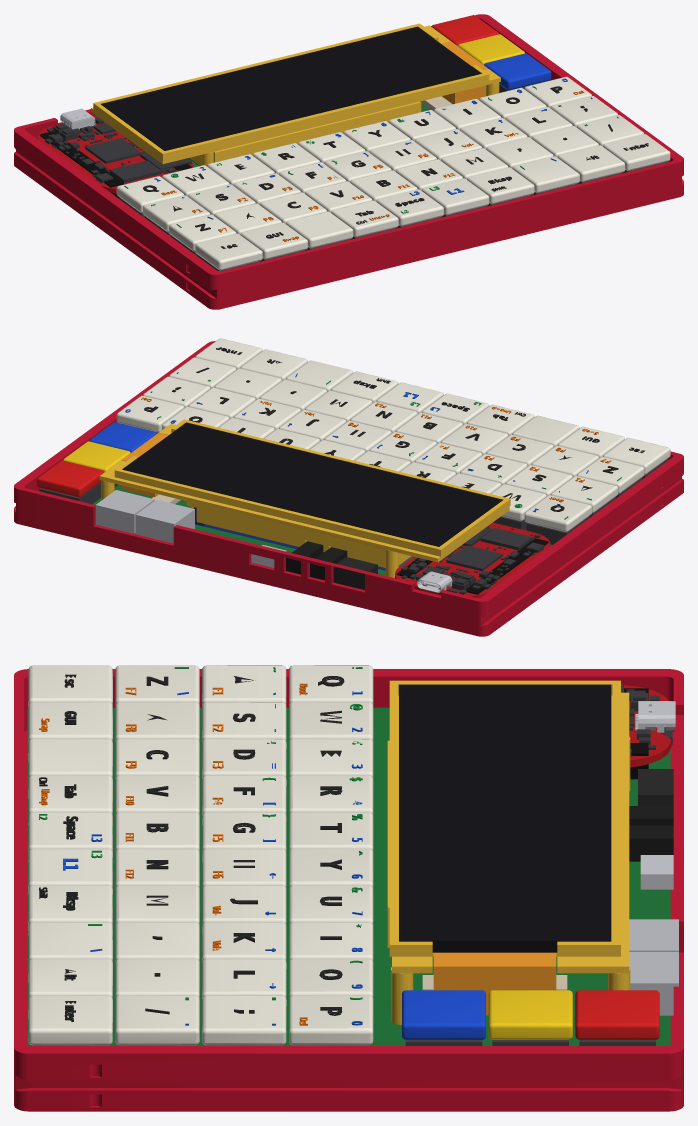
The model's file is open_strawberry.glb.
3 views of the same model, one above another, from view 1: azimuth 30°, elevation 25°; view 2: azimuth 150°, elevation 25°; view 3: azimuth 270°, elevation 25° (orthographic). The views are drawn at different scales.
Visible parts, largest first — view 1: Internals, Tray; view 2: Internals, Tray; view 3: Internals, Tray.
Part boxes in pixels (left/top/right/bottom): Internals: left=38, top=15, right=670, bottom=270; Tray: left=14, top=14, right=683, bottom=309; Internals: left=37, top=338, right=670, bottom=597; Tray: left=14, top=341, right=683, bottom=636; Internals: left=27, top=665, right=678, bottom=1045; Tray: left=14, top=669, right=683, bottom=1111.
Size of the model in its own units: 0.1782 by 0.0211 by 0.1312.
